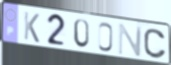0: (72, 18, 91, 50), (98, 22, 114, 53)
2: (44, 14, 69, 49)
C: (143, 28, 168, 61)
K: (23, 11, 41, 45)
N: (117, 23, 144, 58)
